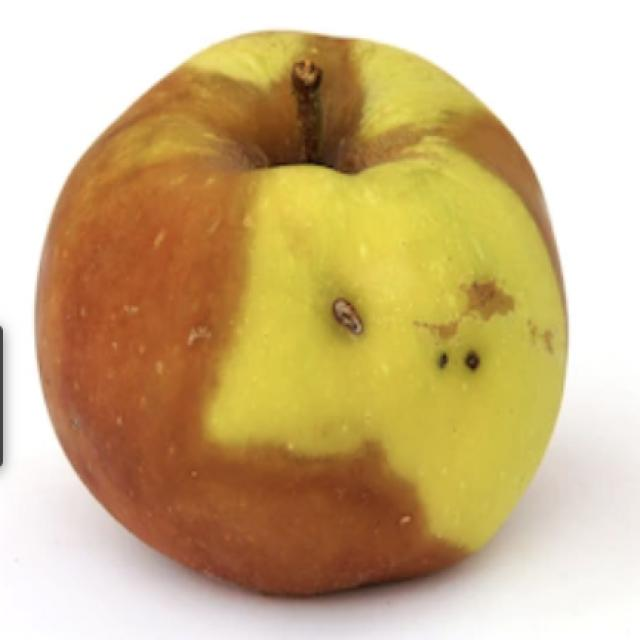rotten_apple: (36, 29, 571, 597)
